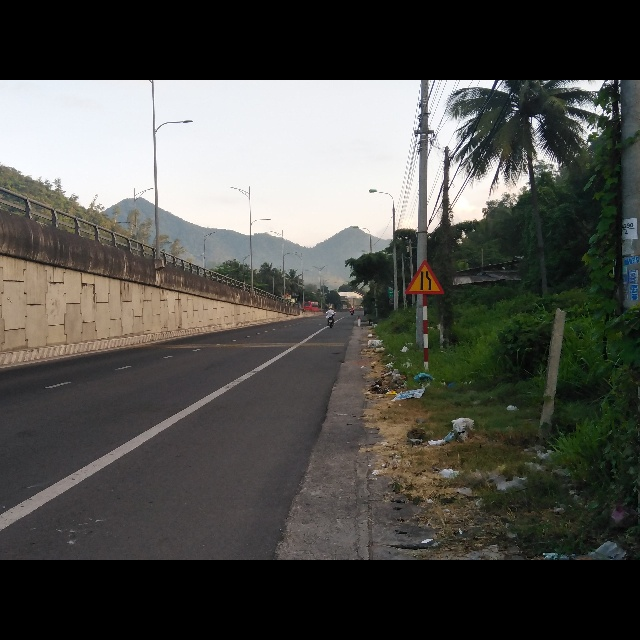Đường bị hẹp bên phải: (405, 260, 445, 295)
